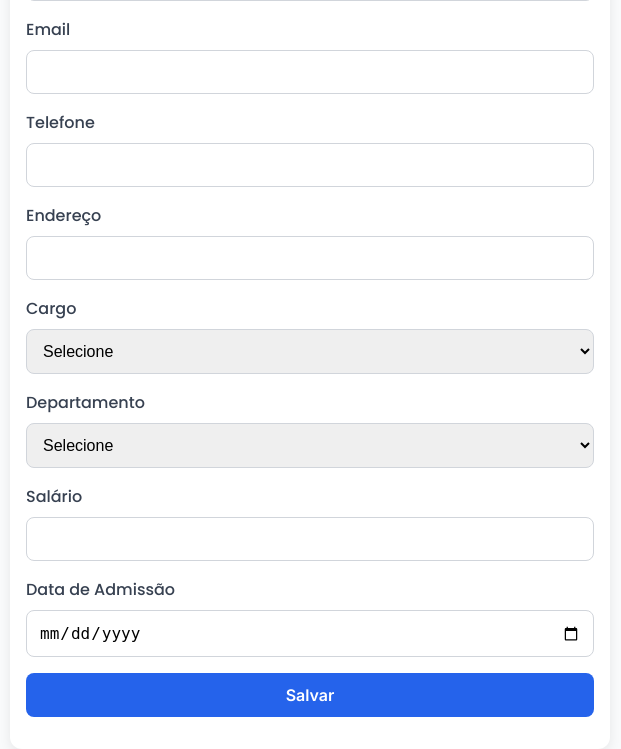
Test: EmployeeCreateForm › mostra erros de validação quando campos obrigatórios estão vazios
(page scrolled)
Click the button "Salvar". click: (310,695)
box: top-left (26, 673), bottom-right (594, 717)
(page scrolled)
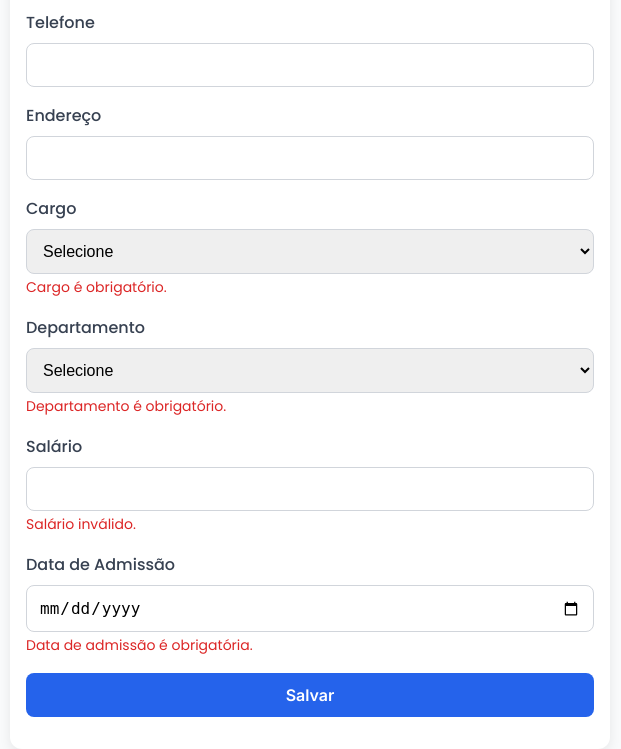
Check: the text "Cargo é obrigatório." is shown, box top-left (26, 277), bottom-right (167, 297)
Check: the text "Departamento é obrigatório." is shown, box top-left (26, 396), bottom-right (226, 416)
Check: the text "Salário inválido." is shown, box top-left (26, 514), bottom-right (136, 534)
